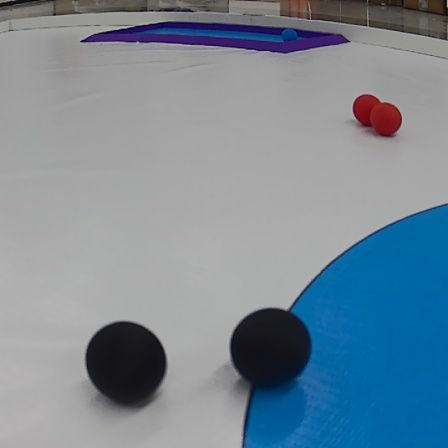black: (81, 320, 166, 401), (224, 307, 310, 382)
blue: (279, 30, 300, 42)
blue_aim: (85, 22, 349, 57)
blue_base: (243, 201, 448, 446)
red: (372, 104, 402, 136), (352, 90, 376, 129)
